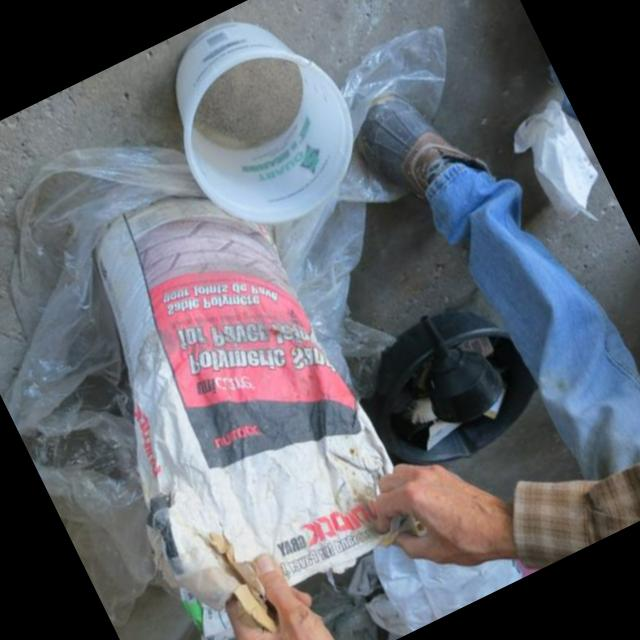KantongSemen: (8, 153, 428, 640)
